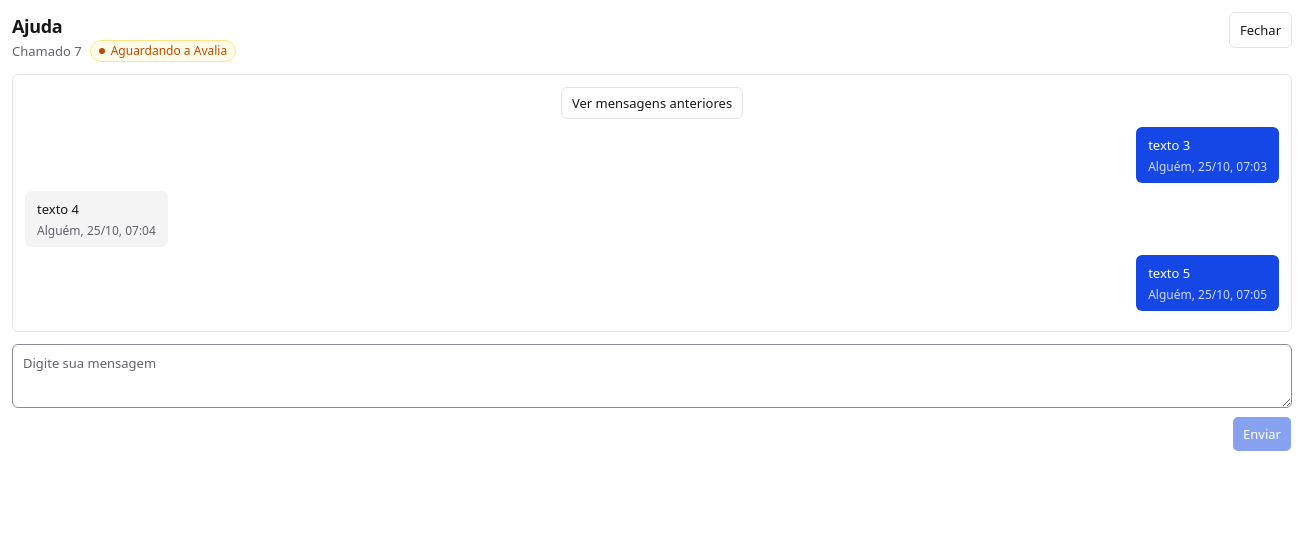
Test: ConversaDoChamado › mostra as mensagens mais novas e carrega as anteriores a partir da mais antiga que a tela tem, sem repetir
Expected: the elements "texto" read "texto 3", "texto 4", "texto 5", in this order, top-left (1148, 136), bottom-right (1190, 154); top-left (37, 200), bottom-right (79, 218); top-left (1148, 264), bottom-right (1190, 282)
Click the button "Ver mensagens anteriores": [652, 103] box top-left (561, 87), bottom-right (743, 119)
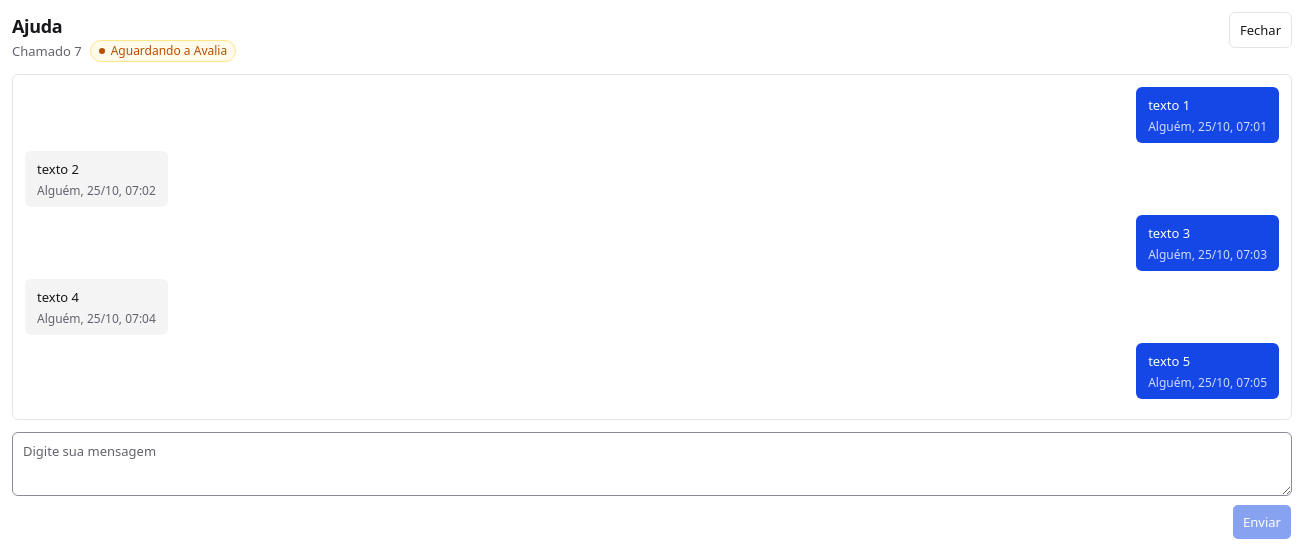
Expected: the elements "texto" read "texto 1", "texto 2", "texto 3", "texto 4", "texto 5", in this order, top-left (1148, 96), bottom-right (1190, 114); top-left (37, 160), bottom-right (79, 178); top-left (1148, 224), bottom-right (1190, 242); top-left (37, 288), bottom-right (79, 306); top-left (1148, 352), bottom-right (1190, 370)
Expected: the button "Ver mensagens anteriores" is gone
